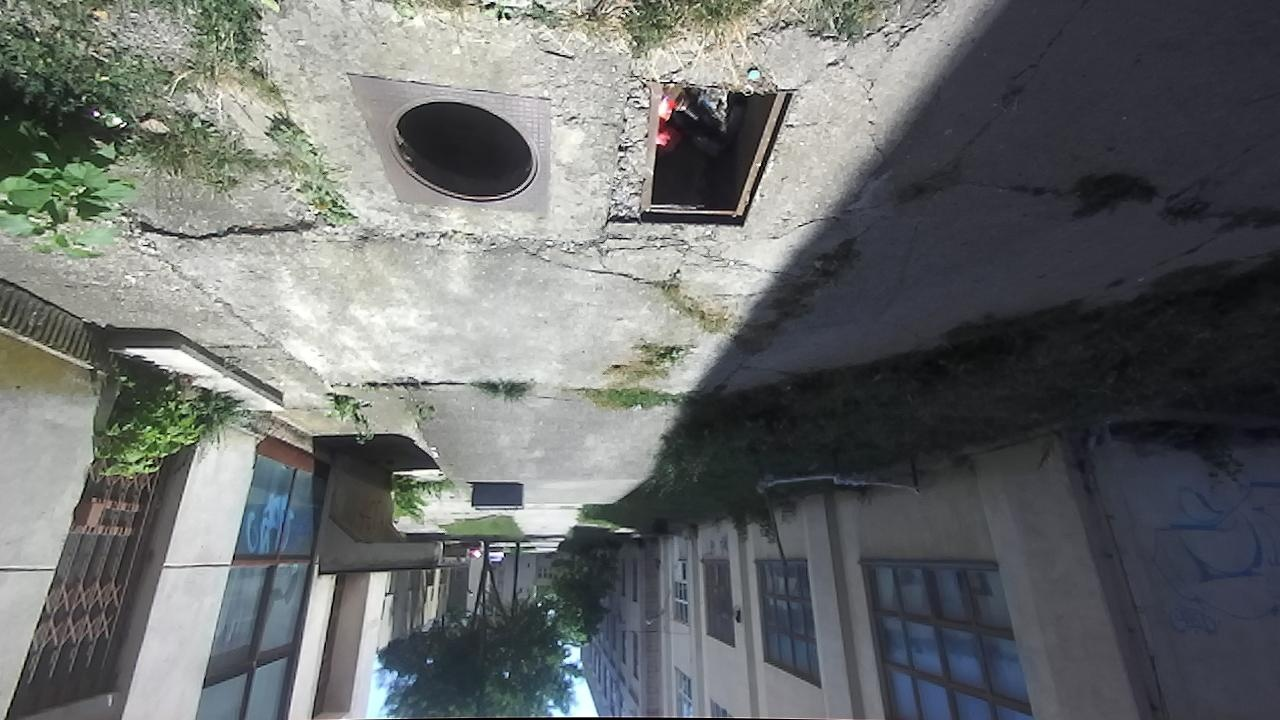drain: (635, 82, 805, 231), (379, 96, 546, 208)
